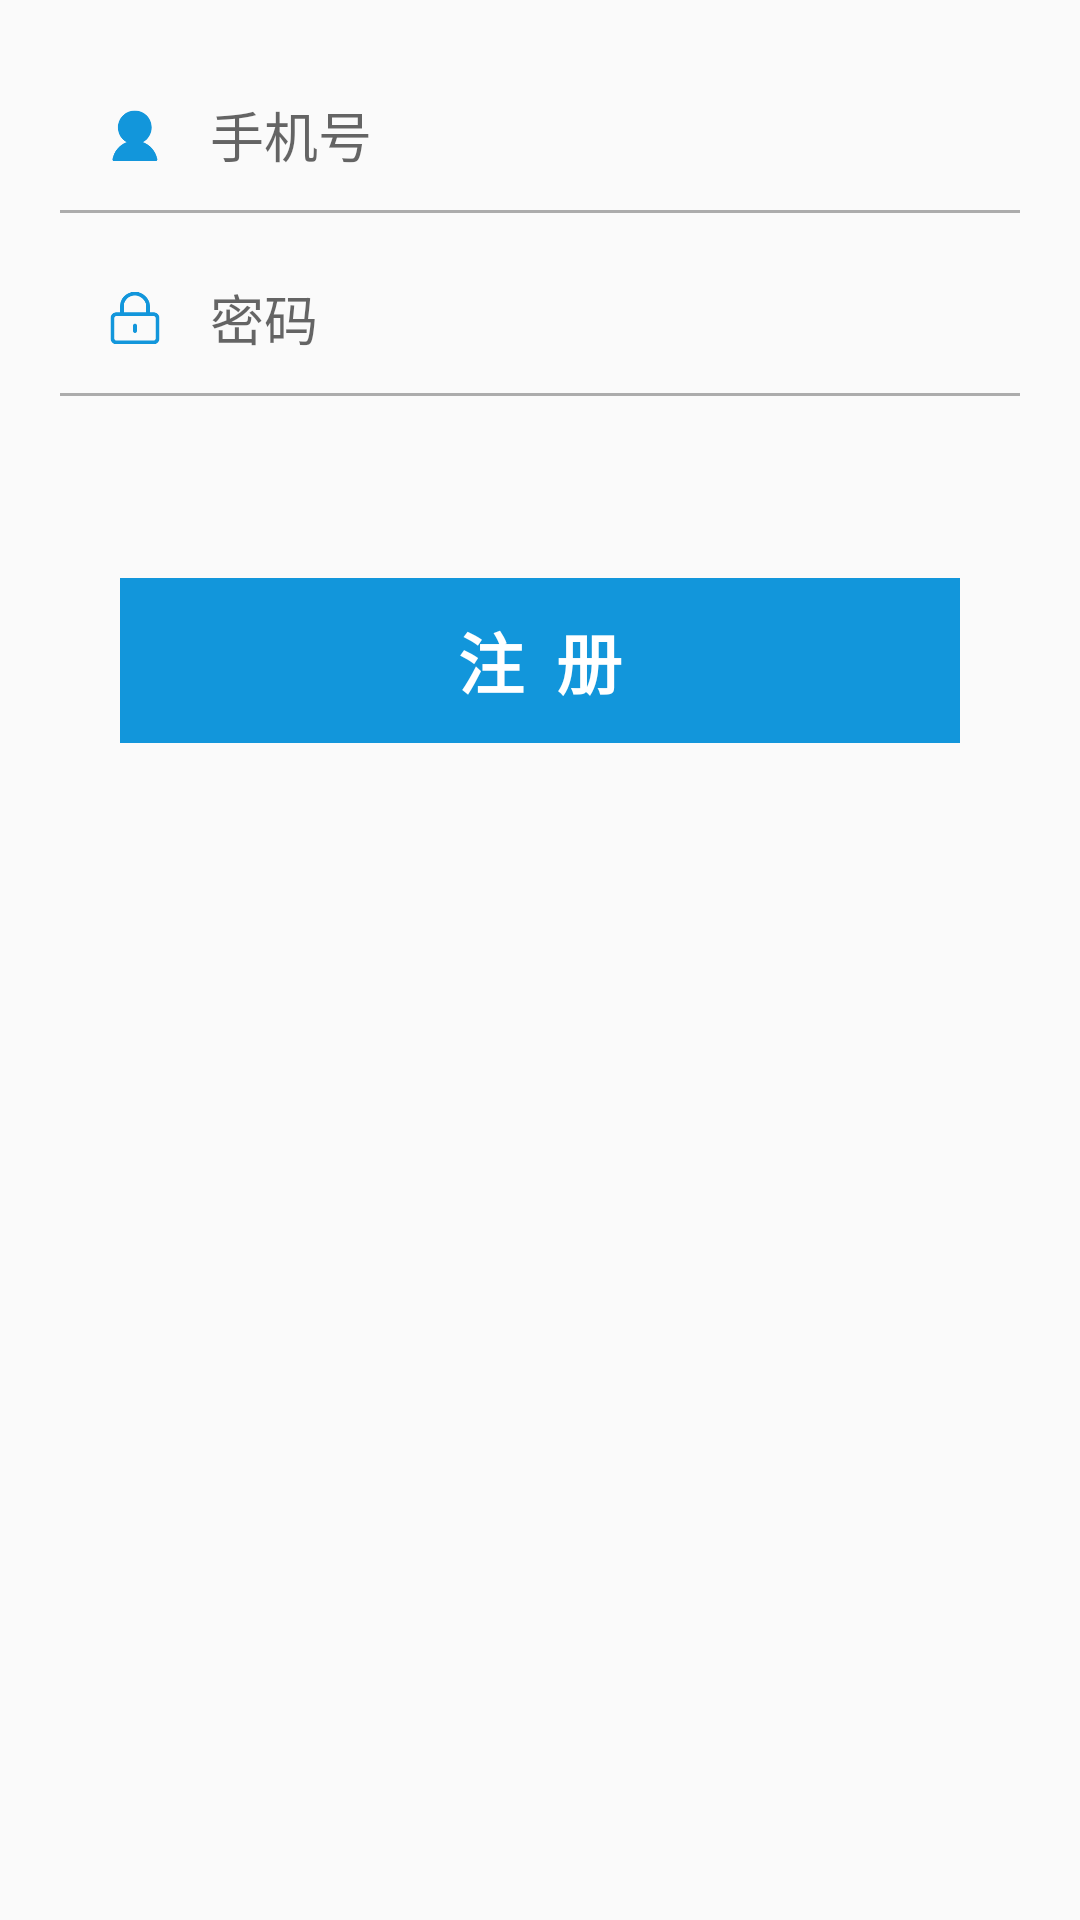

Where icons sit on this 1080px×1920px app screen, as (x1, y1, x2, y2):
lock: (110, 292, 160, 344)
user: (112, 110, 158, 161)
